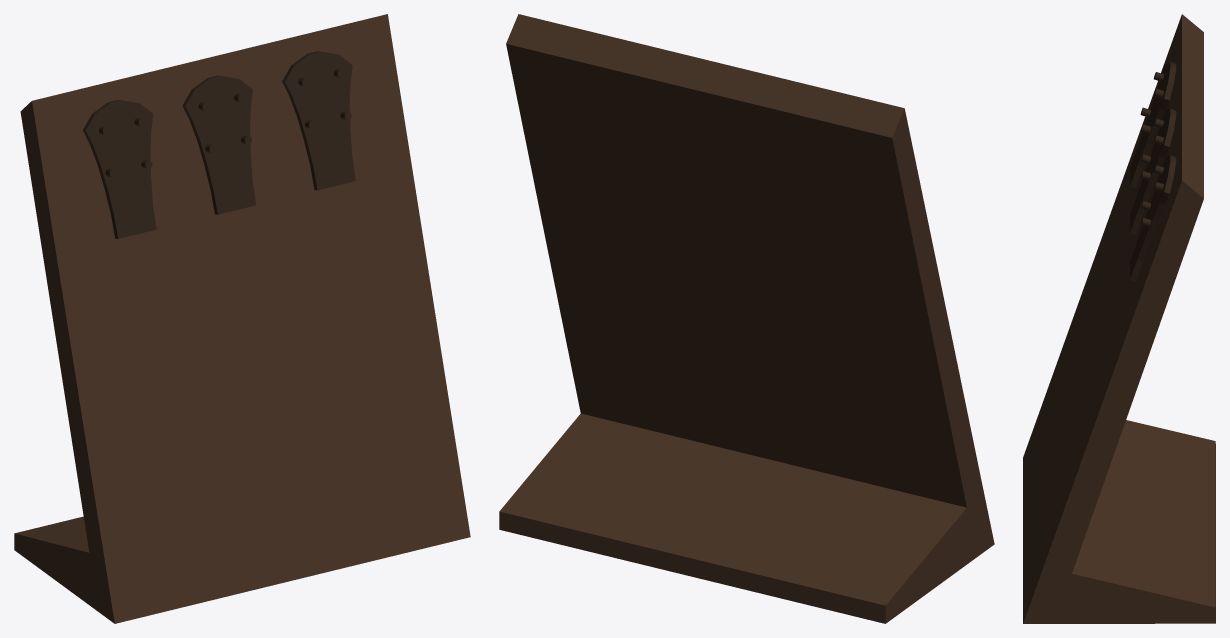
The model's file is weapon_stand.gltf.
3 renders of one model, left to right at view 1: azimuth 30°, elevation 25°; view 2: azimuth 150°, elevation 25°; view 3: azimuth 270°, elevation 25°, orthographic. The views are drawn at different scales.
Visible parts, largest first — view 1: Cube; view 2: Cube; view 3: Cube.
Boxes of the visible parts, x1=… form: Cube: x1=14, y1=14, x2=470, y2=623; Cube: x1=499, y1=14, x2=994, y2=623; Cube: x1=1023, y1=14, x2=1215, y2=623.
Size of the model in its own units: 1 by 1.24 by 0.4893.
1 material, 1 textured.
